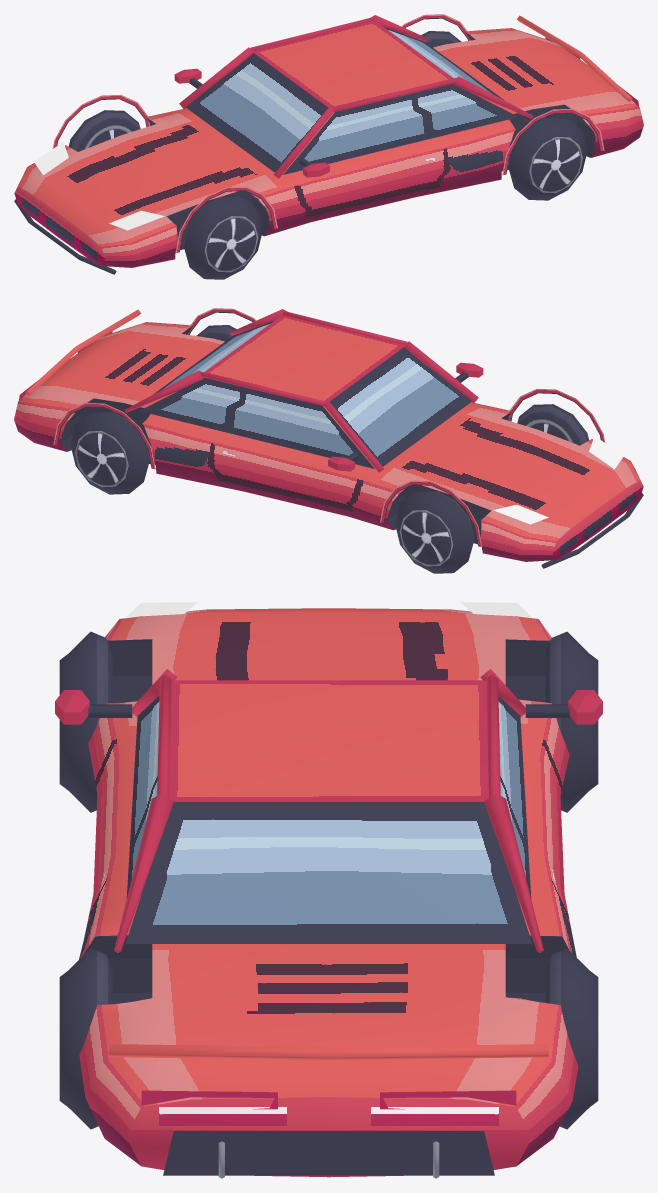
3 renders of one model, top to bottom at view 1: azimuth 30°, elevation 25°; view 2: azimuth 150°, elevation 25°; view 3: azimuth 270°, elevation 25°, orthographic. The views are drawn at different scales.
Visible parts, largest first — view 1: Body, Wheel_FL_tire_hub, Wheel_RL_tire_hub, Wheel_FR_tire_hub, Wheel_RR_tire_hub; view 2: Body, Wheel_FR_tire_hub, Wheel_RR_tire_hub, Wheel_FL_tire_hub, Wheel_RL_tire_hub; view 3: Body, Wheel_FR_tire_hub, Wheel_FL_tire_hub, Wheel_RR_tire_hub, Wheel_RL_tire_hub.
Part boxes in pixels (x1,y1,x2,y2): Body: [14, 14, 643, 274]; Wheel_FL_tire_hub: [183, 197, 262, 279]; Wheel_RL_tire_hub: [508, 118, 587, 200]; Wheel_FR_tire_hub: [68, 110, 140, 151]; Wheel_RR_tire_hub: [421, 31, 461, 47]; Body: [14, 308, 643, 568]; Wheel_FR_tire_hub: [395, 491, 474, 573]; Wheel_RR_tire_hub: [70, 412, 149, 494]; Wheel_FL_tire_hub: [517, 404, 589, 445]; Wheel_RL_tire_hub: [196, 325, 236, 341]; Body: [55, 602, 602, 1178]; Wheel_FR_tire_hub: [545, 631, 598, 812]; Wheel_FL_tire_hub: [59, 631, 112, 812]; Wheel_RR_tire_hub: [545, 948, 598, 1129]; Wheel_RL_tire_hub: [59, 948, 112, 1129].
Bounding box in the file's own units: 81.98 × 18.61 × 35.58.
1 material, 1 textured.
